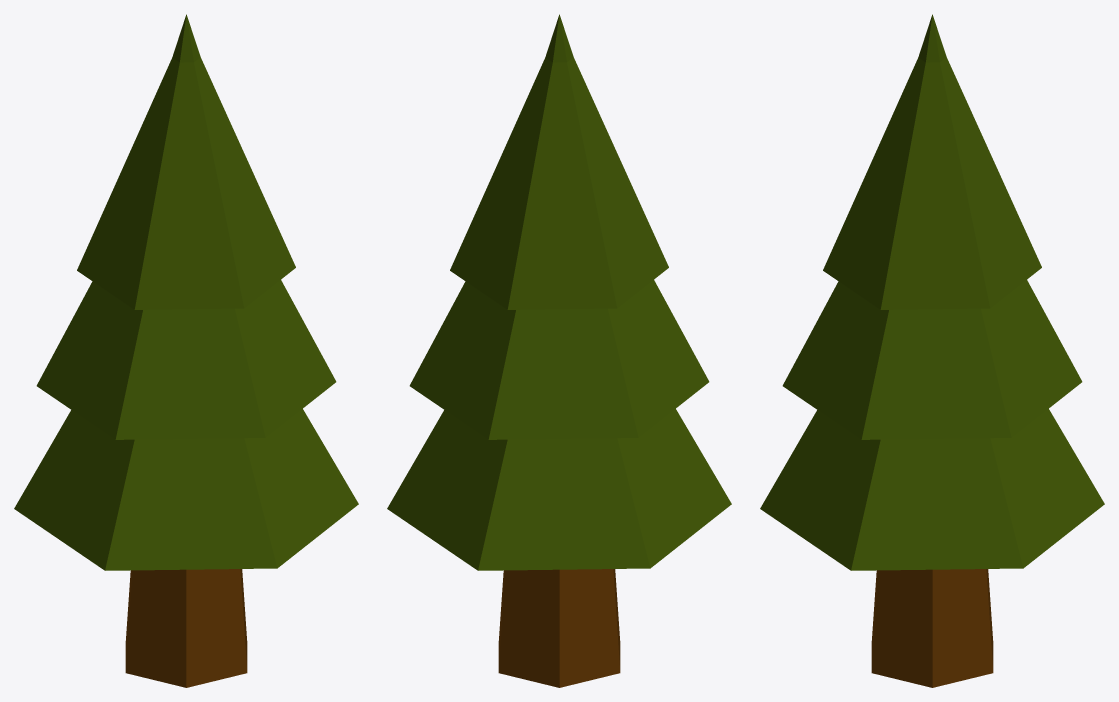
File: TreeC.fbx
The picture shows the model from 3 angles, left to right: view 1: azimuth 30°, elevation 25°; view 2: azimuth 150°, elevation 25°; view 3: azimuth 270°, elevation 25°; orthographic projection.
Parts seen in each view (by area): view 1: group_0.001; view 2: group_0.001; view 3: group_0.001.
Boxes of the visible parts, x1,y1,x2,y2 form: group_0.001: (14,14,358,687); group_0.001: (387,14,731,687); group_0.001: (760,14,1104,687).
Size of the model in its own units: 196 by 458 by 222.
